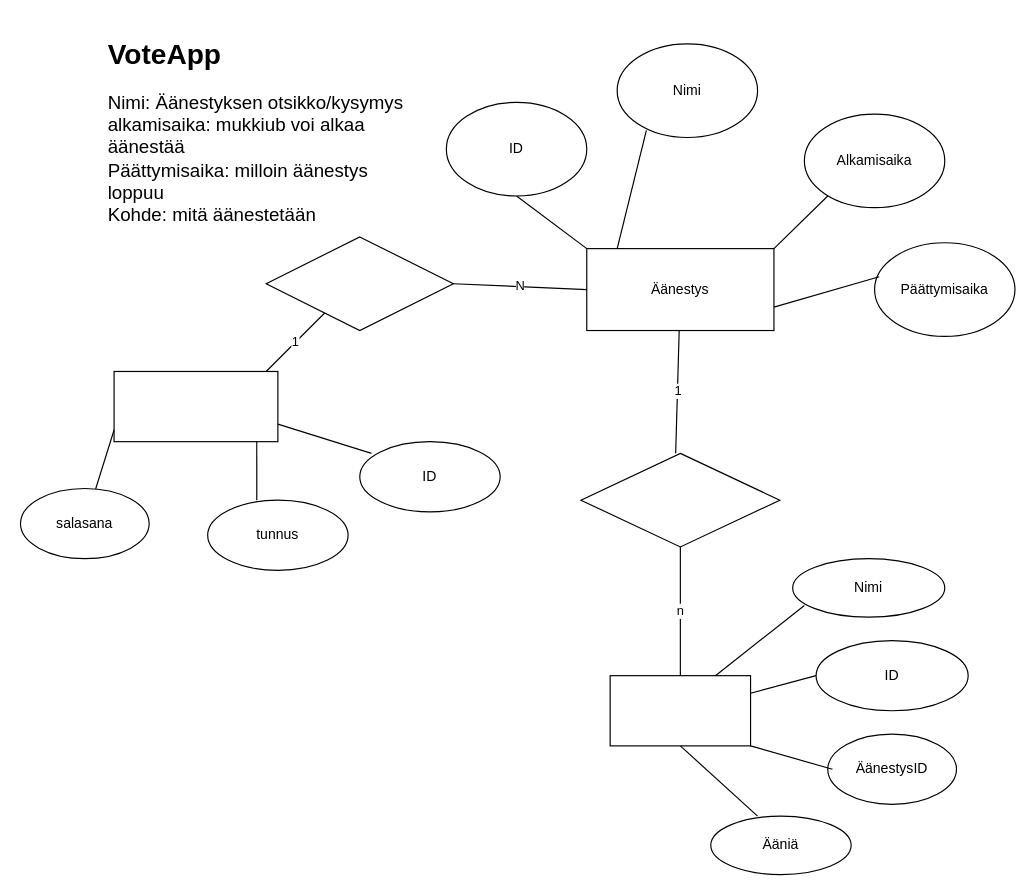
The diagram is 1035 pixels wide and 895 high, and some of its shapes have lost their labels. The shapes that lost their labels are listed below. From the top down, each one's box as (x1, y1, x2, y2) in pixels, then its label:
(265, 236, 453, 331): Omistaa
(113, 370, 278, 442): Käyttäjä
(580, 452, 780, 547): kuuluu
(609, 675, 751, 746): Vaihtoehto
